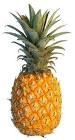Pineapple: (2, 4, 72, 137)
